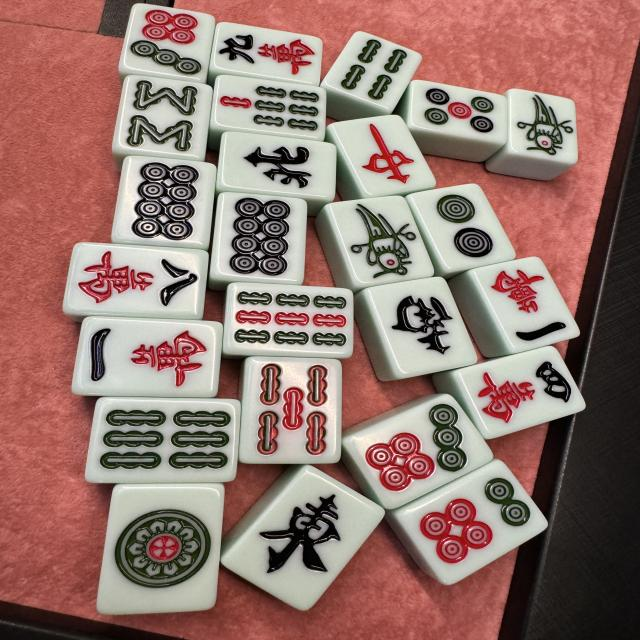hdr: (330, 115, 437, 196)
hwe: (219, 466, 386, 610)
hwn: (221, 131, 337, 198)
hws: (364, 277, 478, 378)
sb1: (325, 195, 436, 286), (509, 89, 578, 162)
sb4: (325, 31, 421, 110)
sb5: (239, 356, 342, 464)
sb6: (86, 398, 241, 483)
sb7: (213, 75, 327, 139)
sb8: (115, 76, 212, 160)
sb9: (225, 282, 354, 357)
sc1: (72, 316, 222, 398), (471, 256, 580, 354)
sc4: (456, 346, 586, 438)
sc8: (64, 241, 208, 318)
sc9: (211, 22, 322, 88)
sd1: (96, 486, 224, 614)
sd2: (409, 183, 516, 271)
sd5: (407, 80, 508, 144)
sd6: (398, 460, 548, 584)
sd7: (345, 393, 494, 509), (120, 4, 213, 82)
sd8: (111, 156, 218, 248), (212, 192, 309, 282)
